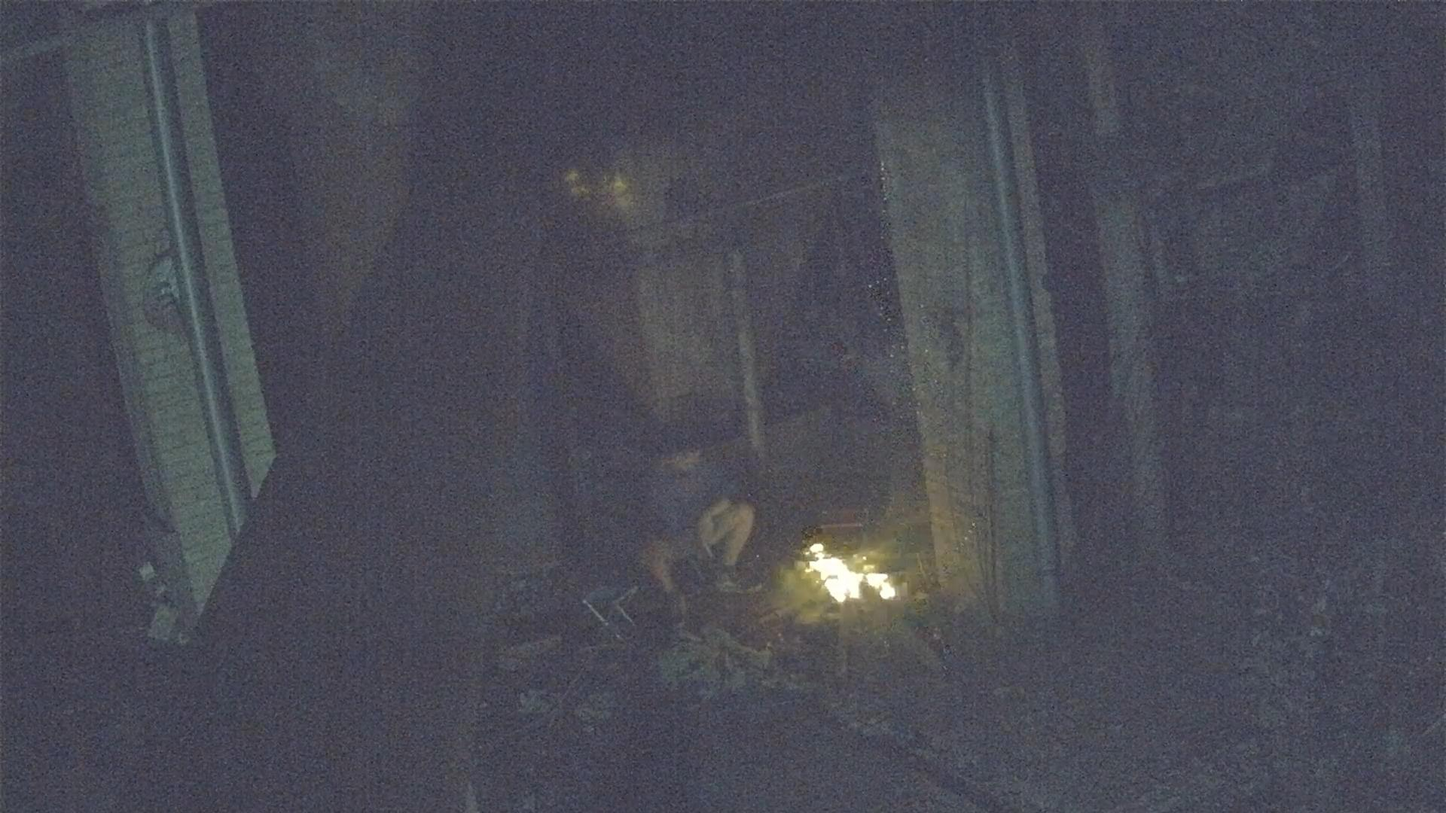fire: (805, 544, 896, 602)
